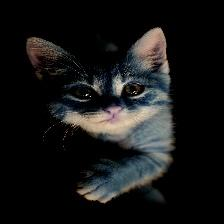kedo: (26, 28, 171, 203)
